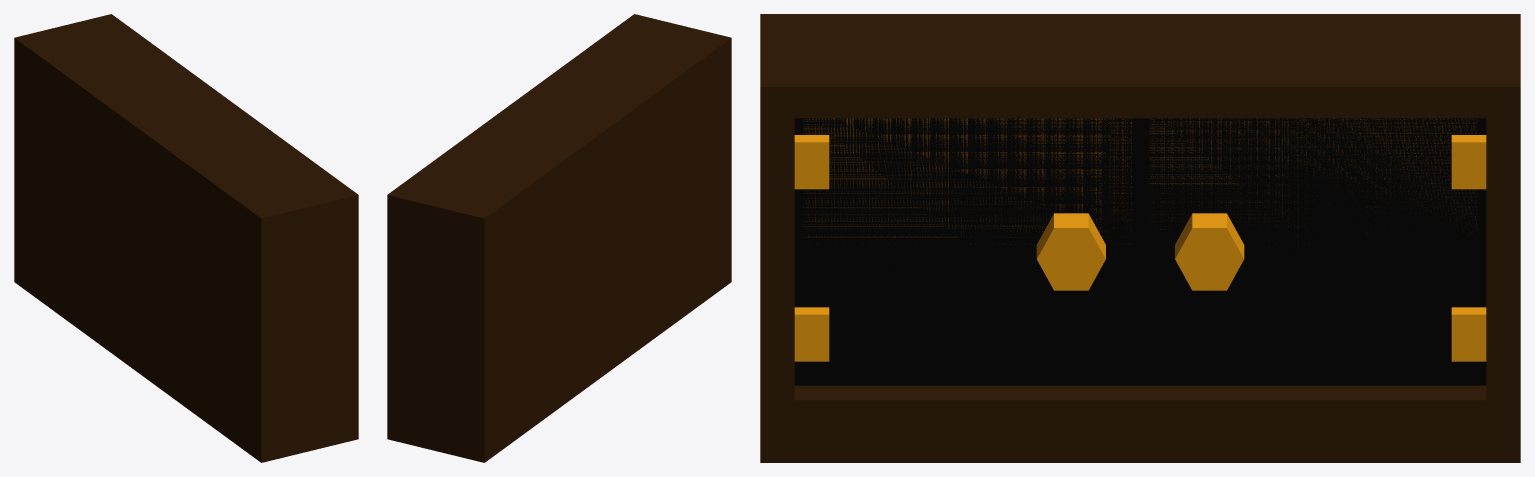
The model's file is model_loc_367_8.obj.
The picture shows the model from 3 angles, left to right: view 1: azimuth 30°, elevation 25°; view 2: azimuth 150°, elevation 25°; view 3: azimuth 270°, elevation 25°; orthographic projection. The views are drawn at different scales.
Parts seen in each view (by area): view 1: 2247; view 2: 2247; view 3: 2247.
Part boxes in pixels (x1,y1,x2,y2): 2247: [14, 14, 358, 462]; 2247: [387, 14, 731, 462]; 2247: [760, 14, 1520, 462].
Size of the model in its own units: 40 by 96 by 176.
